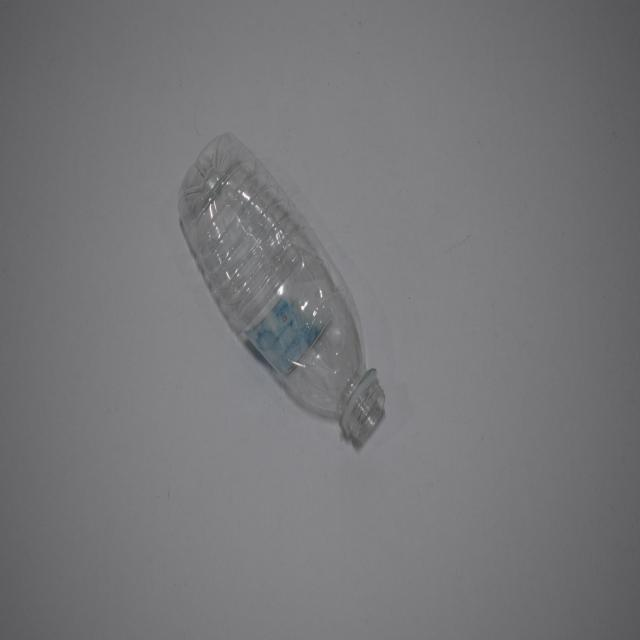bottle: (175, 127, 388, 447)
